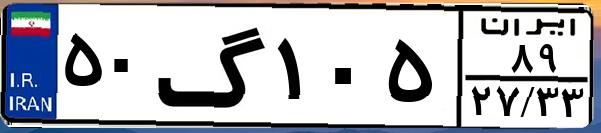0: (330, 28, 385, 110), (110, 28, 156, 98)
1: (270, 28, 330, 110)
2: (470, 70, 495, 125)
3: (560, 70, 590, 125), (535, 70, 560, 125)
5: (385, 28, 445, 110), (57, 26, 110, 100)
7: (495, 70, 520, 125)
8: (508, 27, 537, 80)
9: (537, 27, 568, 80)
گ: (156, 12, 270, 120)
